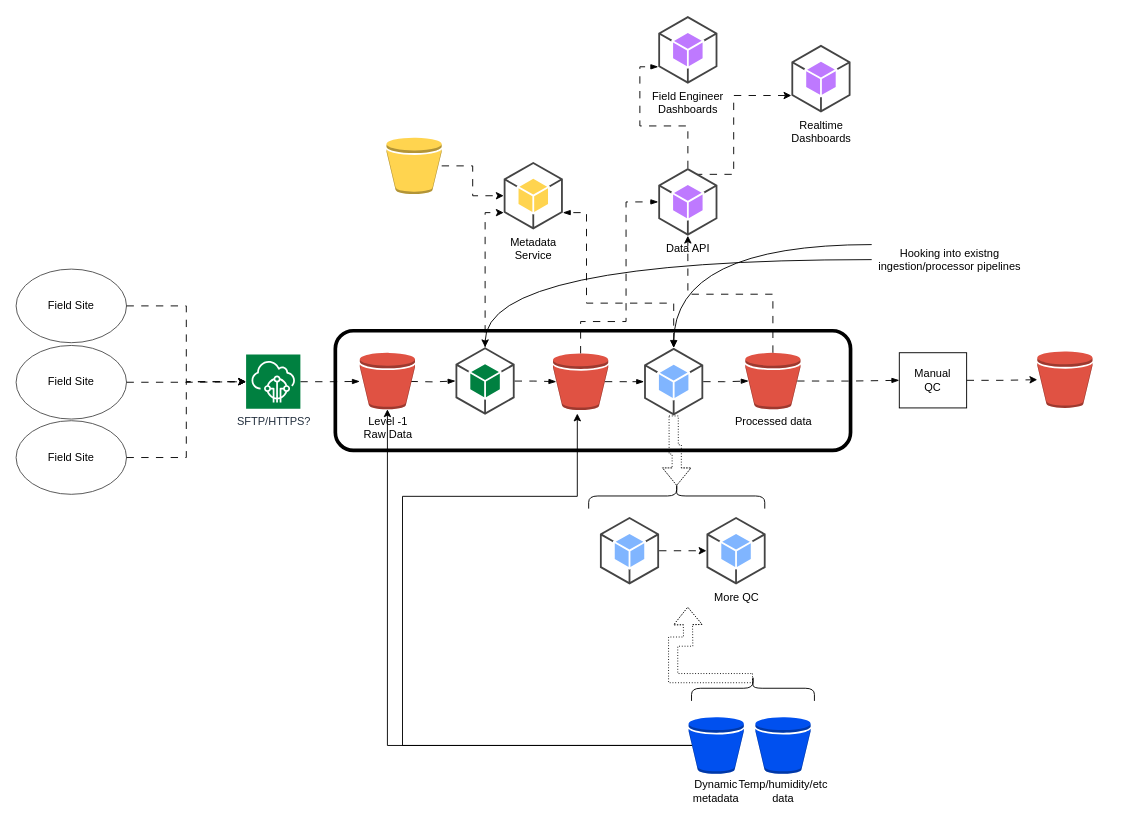
Image size: 1128x822. Some labels were removed from this diagram. Here are the shapes that lost their labels. From the top down, the centre of each, then its label:
At (x=414, y=165): "Metadata Store".
At (x=485, y=380): "Ingestion Service".
At (x=580, y=381): "Level 0 Data".
At (x=673, y=381): "Processing".
At (x=1064, y=379): "Final QCed dataset".
At (x=629, y=550): "EddyPro".
